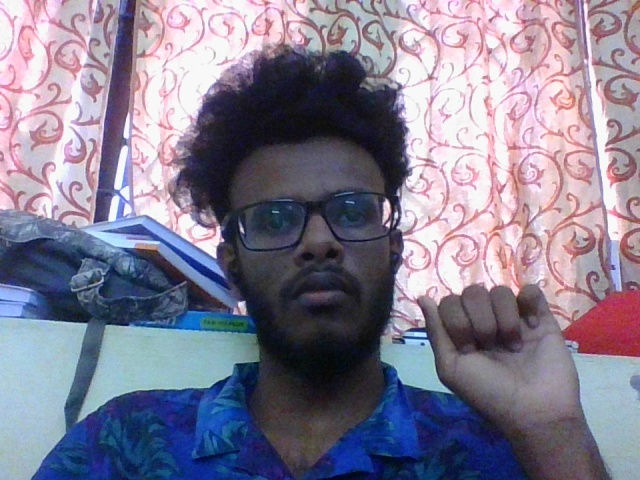yes: (408, 278, 615, 480)
